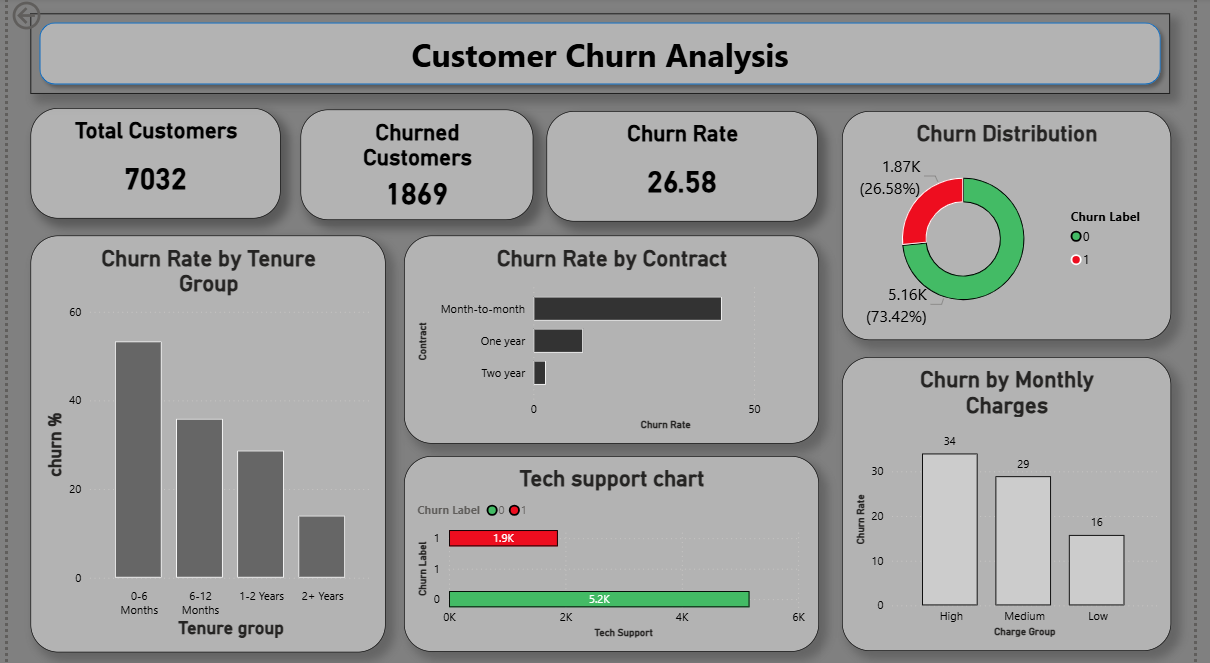

Layout of this report page (visuals, bound fields, positions):
{"tool":"powerbi","page":{"name":"Page 1","canvas":[1280,720],"ordinal":0},"visuals":[{"type":"card","title":"Total Customers","fields":{"Values":["CountNonNull(customers_churn.Gender)"]},"box":[24.6,119.1,270.2,119.1],"z":0},{"type":"shape","box":[24.6,17,1230.2,86.9],"z":1000},{"type":"card","title":"Churned Customers","fields":{"Values":["Sum(customers_churn.Churn Label)"]},"box":[315.6,120.9,251.3,119.1],"z":2000},{"type":"actionButton","box":[0,0,100,40],"z":3000},{"type":"card","title":"Churn Rate","fields":{"Values":["customers_churn.Churn Rate"]},"box":[582.1,122.8,292.9,119.1],"z":4000},{"type":"clusteredColumnChart","fields":{"Category":["customers_churn.Tenure Group"],"Y":["customers_churn.Churn Rate"]},"box":[24.6,257,383.6,449.8],"z":5000},{"type":"clusteredBarChart","fields":{"Category":["customers_churn.Contract"],"Y":["customers_churn.Churn Rate"]},"box":[427.1,257,447.9,224.9],"z":6000},{"type":"barChart","title":"Tech support chart","fields":{"Y":["CountNonNull(customers_churn.Tech Support)"],"Category":["customers_churn.Churn Label"],"Series":["customers_churn.Churn Label"]},"box":[427.1,495.1,447.9,211.7],"z":7000},{"type":"clusteredColumnChart","title":"Churn by Monthly Charges","fields":{"Category":["customers_churn.Charge Group"],"Y":["customers_churn.Churn Rate"]},"box":[899.5,389.3,355.3,317.5],"z":8000},{"type":"donutChart","title":"Churn Distribution","fields":{"Category":["customers_churn.Churn Label"],"Y":["CountNonNull(customers_churn.Churn Label)"]},"box":[899.5,122.8,355.3,247.6],"z":9000}]}

Visuals, with their boxes in screenshot pixels (x1, y1, x2, y2), scaled from the page's 1280x720 canvas onto the 1210x663 screenshot:
"Total Customers" card: crop(23, 110, 279, 219)
shape: crop(23, 16, 1186, 96)
"Churned Customers" card: crop(298, 111, 536, 221)
actionButton: crop(0, 0, 95, 37)
"Churn Rate" card: crop(550, 113, 827, 223)
clusteredColumnChart - customers_churn.Tenure Group x customers_churn.Churn Rate: crop(23, 237, 386, 651)
clusteredBarChart - customers_churn.Contract x customers_churn.Churn Rate: crop(404, 237, 827, 444)
"Tech support chart" barChart: crop(404, 456, 827, 651)
"Churn by Monthly Charges" clusteredColumnChart: crop(850, 358, 1186, 651)
"Churn Distribution" donutChart: crop(850, 113, 1186, 341)
